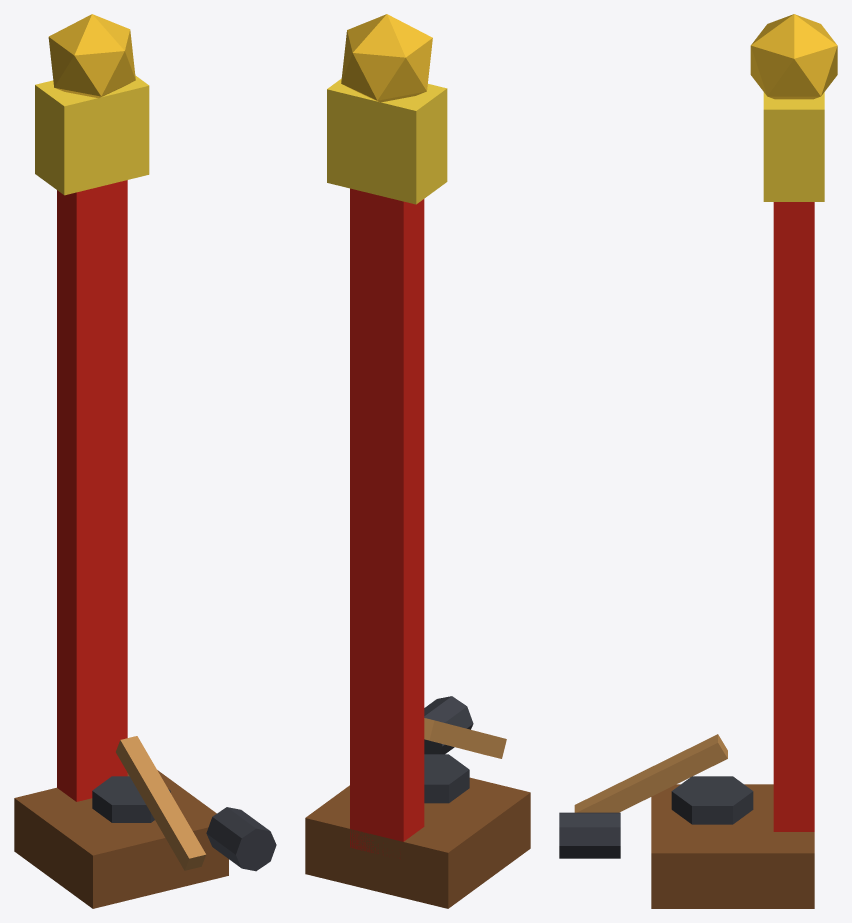
The model's file is strength_tester.glb.
The picture shows the model from 3 angles, left to right: view 1: azimuth 30°, elevation 25°; view 2: azimuth 150°, elevation 25°; view 3: azimuth 270°, elevation 25°; orthographic projection. The views are drawn at different scales.
Parts seen in each view (by area): view 1: strength_tester; view 2: strength_tester; view 3: strength_tester.
Boxes of the visible parts, <box> form: strength_tester: <box>14,14,276,908</box>; strength_tester: <box>305,14,530,908</box>; strength_tester: <box>559,14,837,908</box>.
Bounding box in the file's own units: 0.82 × 4.65 × 1.36.
